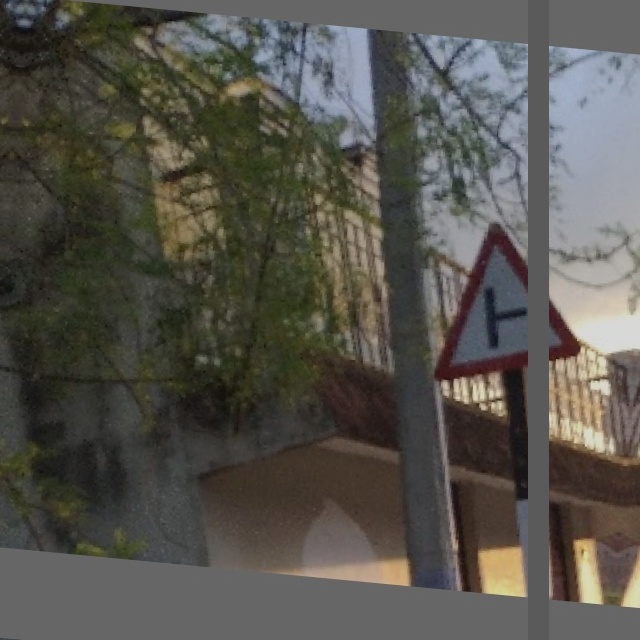Side_Road_Right: (428, 210, 601, 398)
